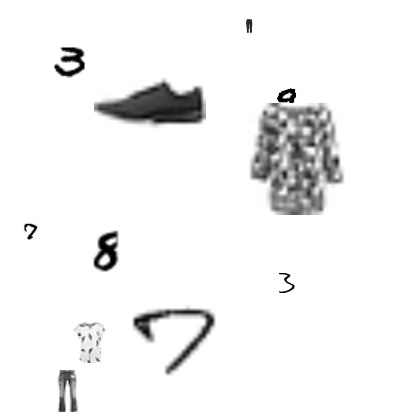3: (50, 40, 92, 82), (273, 269, 301, 297)
4: (141, 128, 155, 142)
7: (118, 274, 230, 386), (19, 219, 41, 241)
8: (78, 223, 134, 279)
9: (273, 83, 301, 111)
Shirt: (239, 103, 351, 215)
Sneaker: (94, 47, 206, 159)
T-shirt/top: (68, 321, 110, 363)
Trouser: (46, 370, 88, 412), (242, 19, 256, 33)
